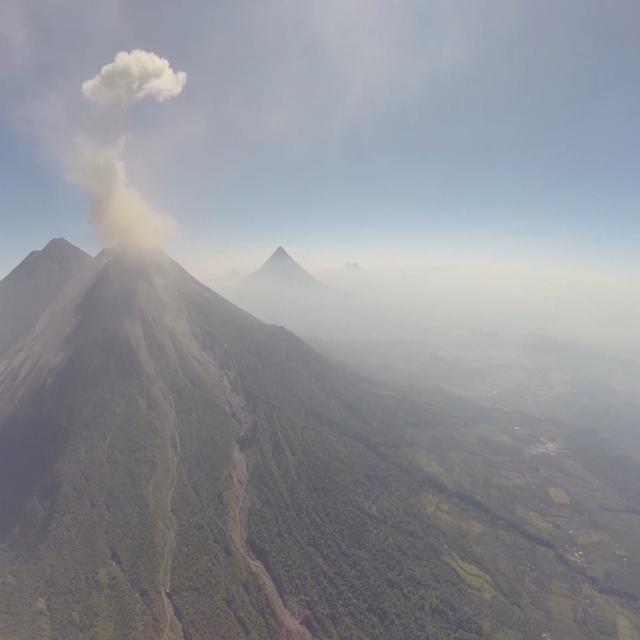Plume: (66, 128, 182, 252), (81, 44, 194, 112)
